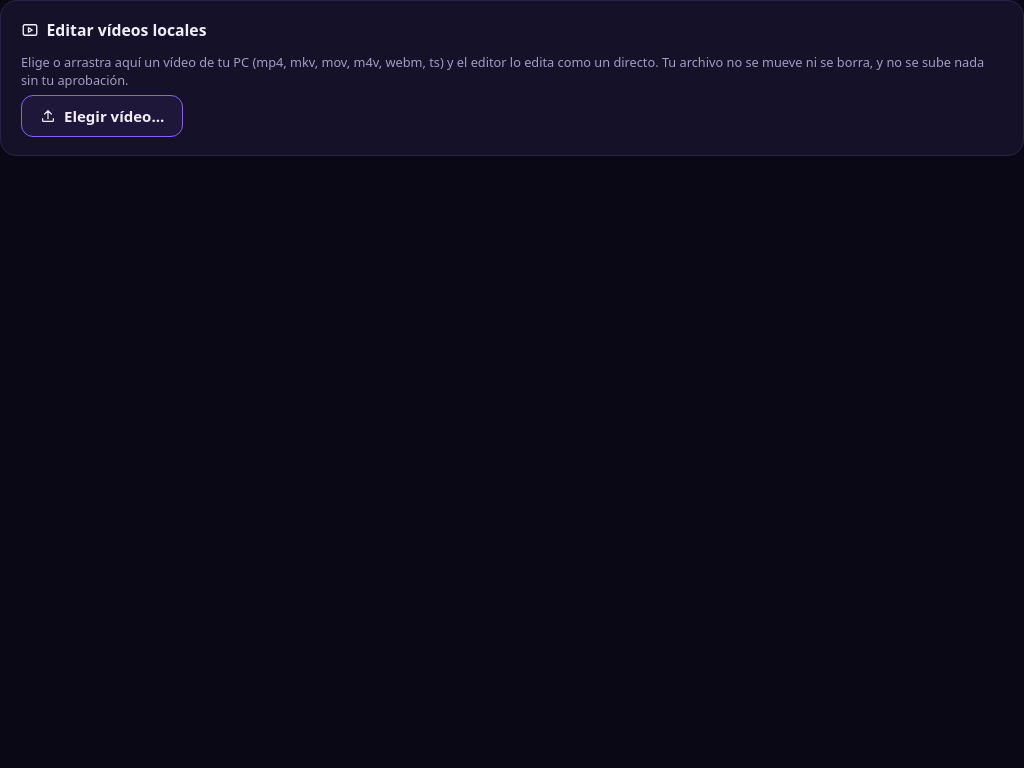
Test: editar vídeos locales › elige el archivo y se lo pasa al editor; nunca pide subir nada
Click the button "Elegir vídeo…" at (102, 116), box [21,95,183,137]
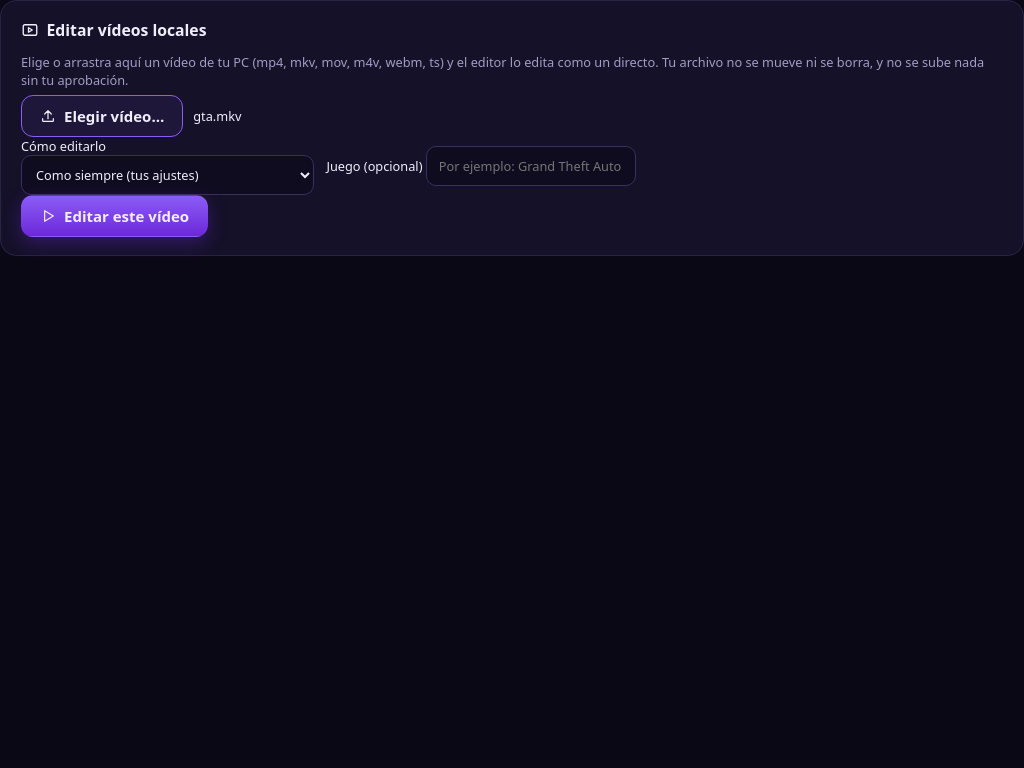
Click the button "Editar este vídeo" at (115, 216), box [21,195,208,237]
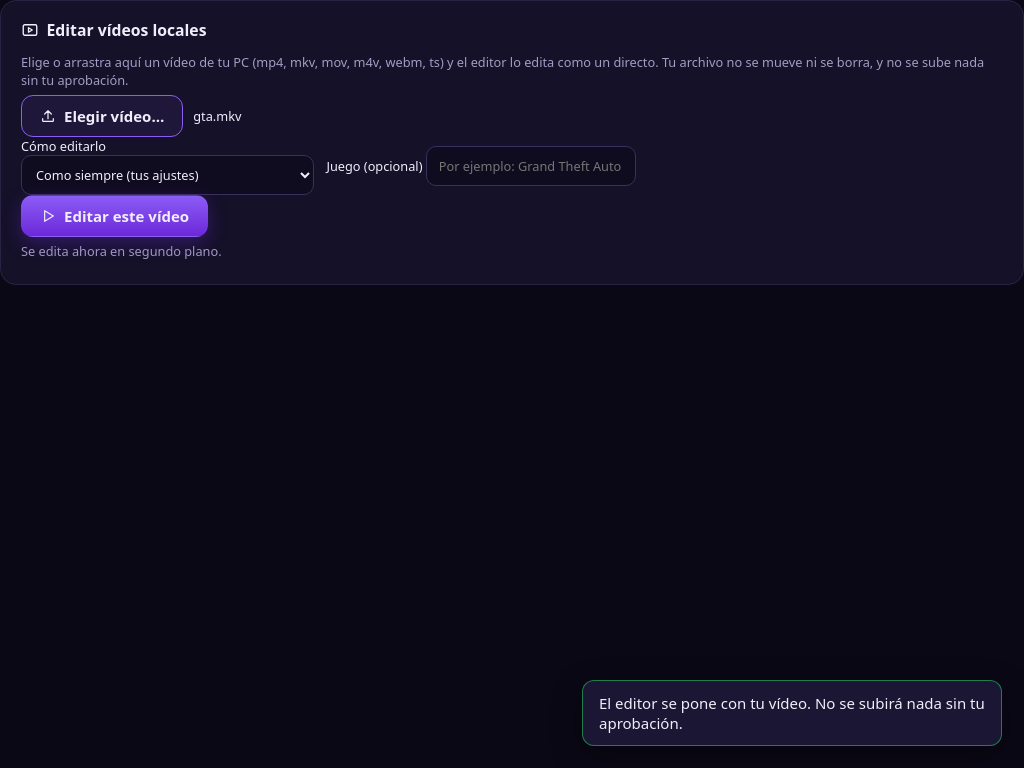
Now the text "Se edita ahora en segundo plano." is shown, box [21,242,222,260]
